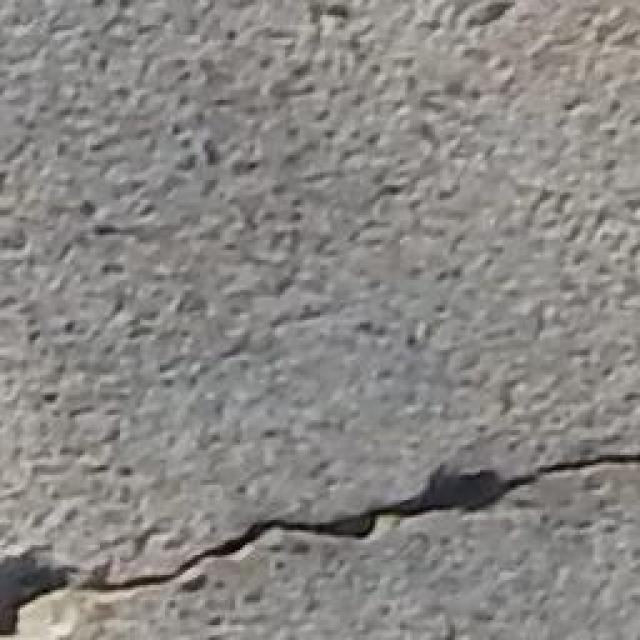concrete-crack: (0, 448, 640, 640)
